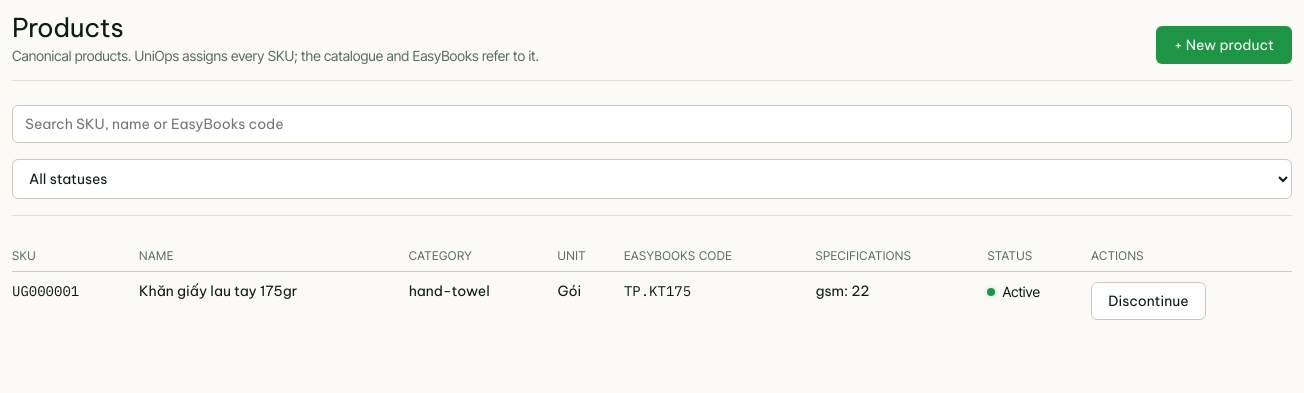
ProductsView › discontinues a product through PATCH with only the status
Click the button "Discontinue": (1148, 301) [1091,282,1206,320]
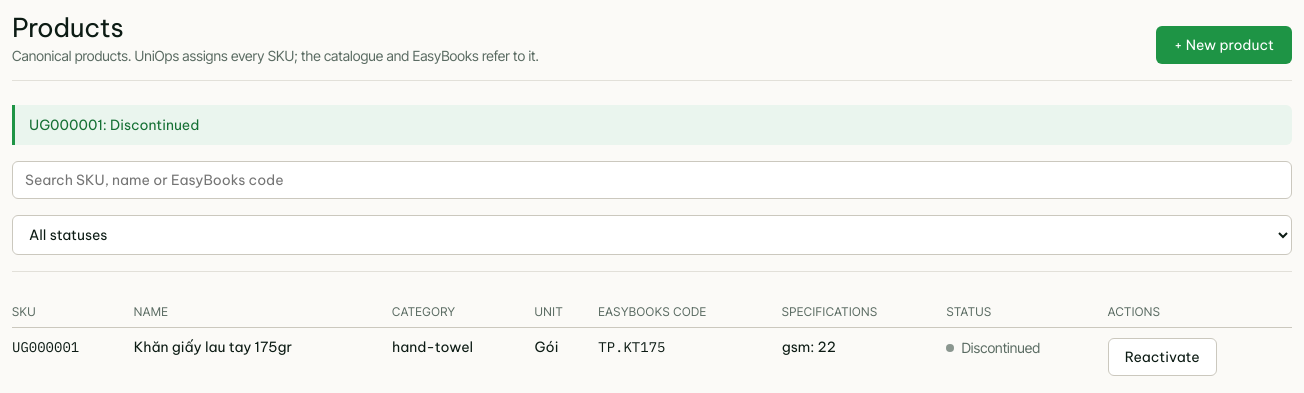
Result: the button "Reactivate" is shown at [1108,338,1217,376]
